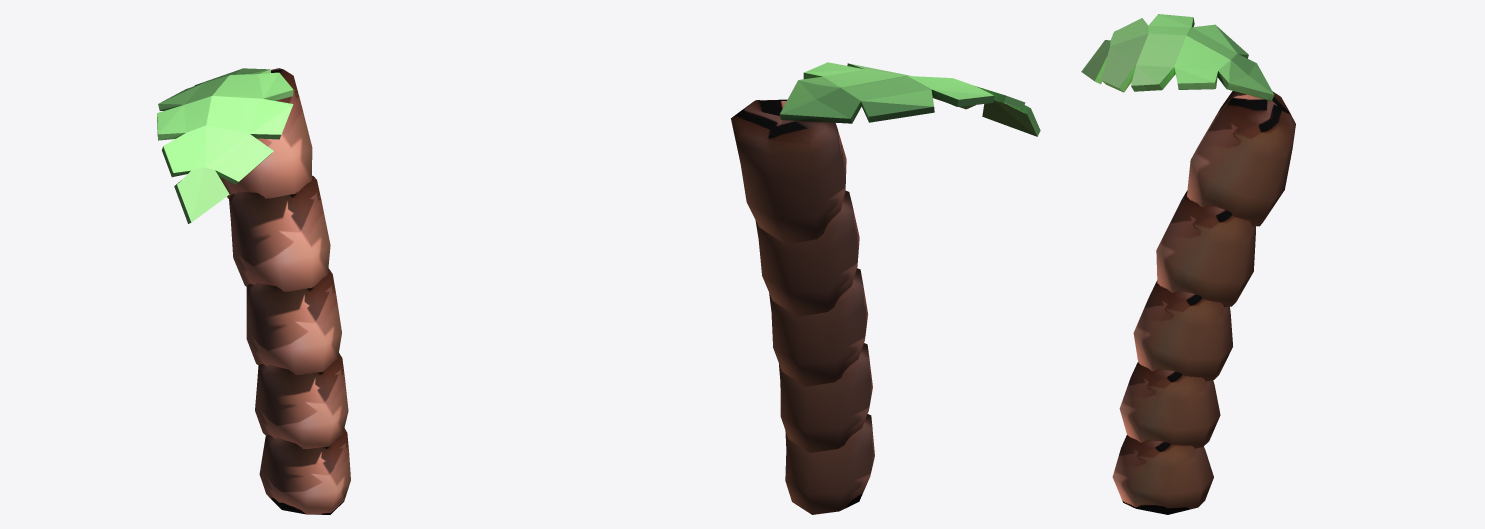
File: palmTree.fbx
3 renders of one model, left to right at view 1: azimuth 30°, elevation 25°; view 2: azimuth 150°, elevation 25°; view 3: azimuth 270°, elevation 25°, orthographic. The views are drawn at different scales.
Visible parts, largest first — view 1: Palm_Tree; view 2: Palm_Tree; view 3: Palm_Tree.
Part boxes in pixels (x1,y1,x2,y2): Palm_Tree: (157, 68, 350, 514); Palm_Tree: (731, 62, 1040, 514); Palm_Tree: (1081, 14, 1295, 514).
Size of the model in its own units: 2.68 by 3.24 by 2.71.
